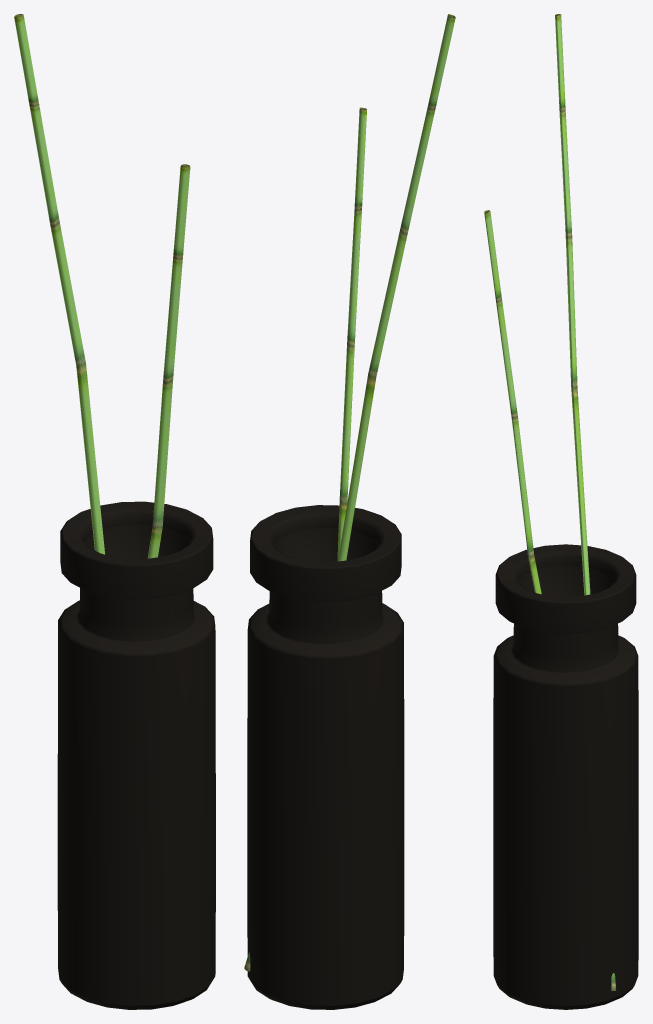
File: bottle2.fbx
3 renders of one model, left to right at view 1: azimuth 30°, elevation 25°; view 2: azimuth 150°, elevation 25°; view 3: azimuth 270°, elevation 25°, orthographic. The views are drawn at different scales.
Visible parts, largest first — view 1: pCylinder1, polySurface85, polySurface86; view 2: pCylinder1, polySurface85, polySurface86; view 3: pCylinder1, polySurface85, polySurface86.
Part boxes in pixels (<box>): pCylinder1: <box>57,501,215,1009</box>; polySurface85: <box>14,14,104,554</box>; polySurface86: <box>147,164,190,558</box>; pCylinder1: <box>247,505,404,1009</box>; polySurface85: <box>244,14,455,971</box>; polySurface86: <box>337,107,366,561</box>; pCylinder1: <box>493,544,638,1009</box>; polySurface85: <box>555,14,616,990</box>; polySurface86: <box>484,210,541,594</box>.
Bounding box in the file's own units: 14.17 × 69.14 × 10.61.
Materials: 2 (2 with a texture image).
